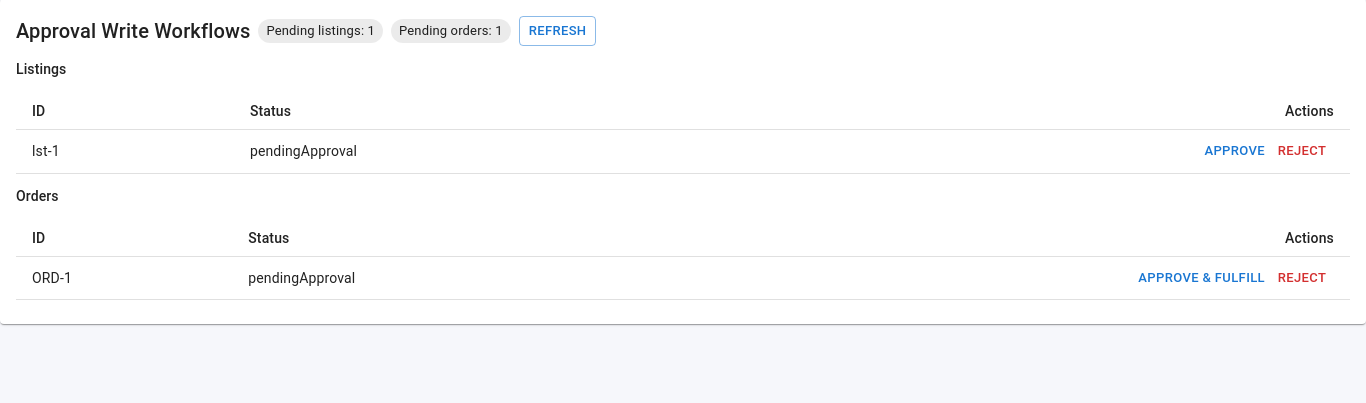
Test: ApprovalWorkflowPanel › keeps row and shows error when approve fails
The width and height of the screenshot is (1366, 403).
Expected: the text "lst-1" is shown, top-left (16, 130), bottom-right (234, 173)
Click the button "Approve": [1235, 151] box top-left (1199, 136), bottom-right (1270, 167)
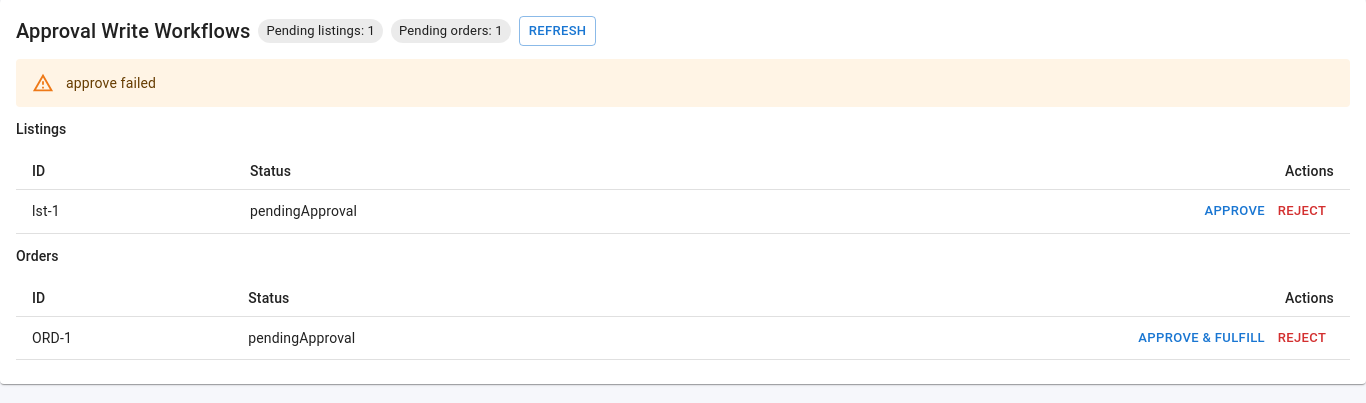
Expected: the text "lst-1" is shown, top-left (16, 190), bottom-right (234, 233)
Expected: the text "approve failed" is shown, top-left (66, 75), bottom-right (156, 91)
